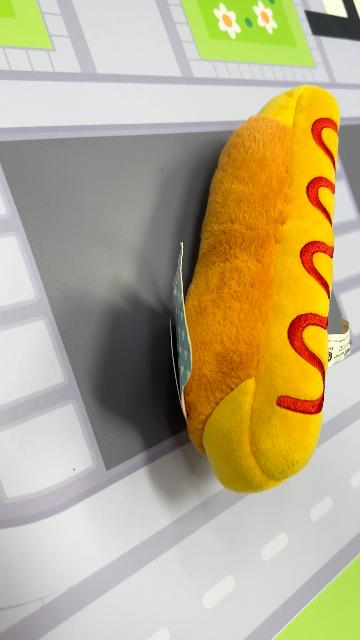hotdog: (176, 83, 344, 495)
